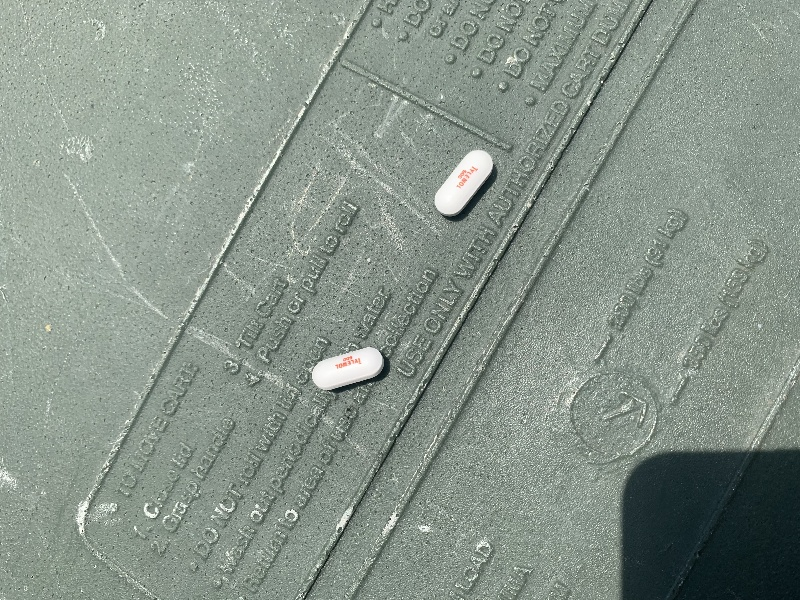Tylenol: (432, 144, 496, 219), (311, 346, 390, 393)
